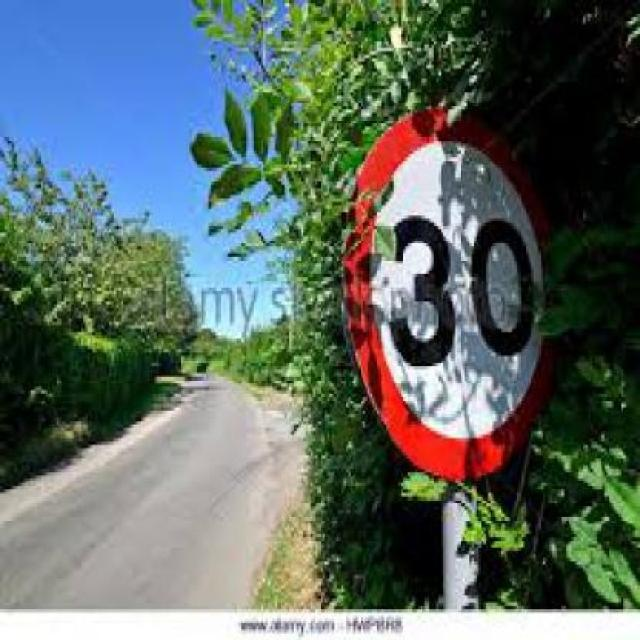forb_speed_over_30: (346, 113, 554, 473)
